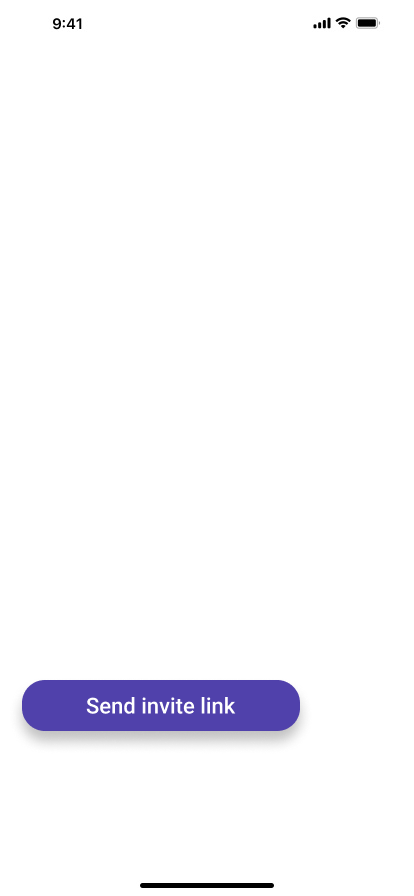Buttons: (8, 676, 314, 755)
Home Indicator: (0, 862, 414, 896)
Status Bar: (0, 0, 414, 44)
